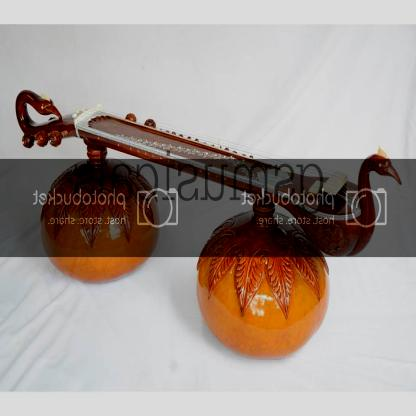Veena: (26, 125, 405, 282)
